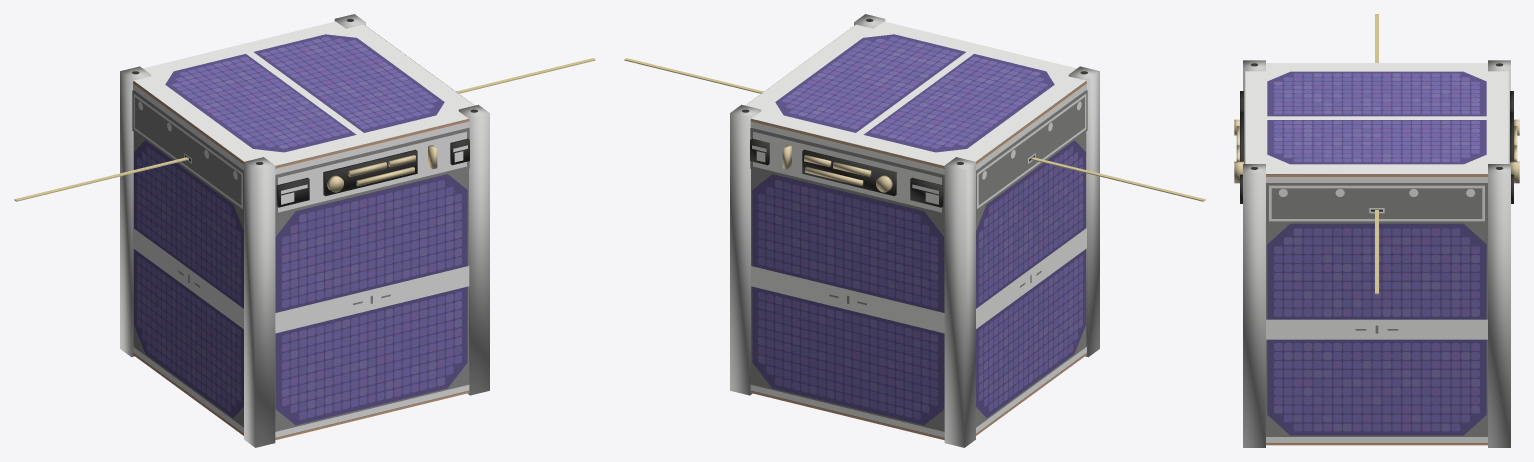
File: 1U_CubeSat.glb
3 renders of one model, left to right at view 1: azimuth 30°, elevation 25°; view 2: azimuth 150°, elevation 25°; view 3: azimuth 270°, elevation 25°, orthographic.
Visible parts, largest first — view 1: Face -Y, Face -X, Top end, Corner rail, Corner rail.002, Corner rail.001, Black connector block -Y 2, Tape antenna -X, Black connector block -Y 1; view 2: Face +Y, Face -X, Top end, Corner rail.001, Corner rail.003, Corner rail, Black connector block +Y 2, Tape antenna -X, Black connector block +Y 1; view 3: Face +X, Top end, Corner rail.002, Corner rail.003, Corner rail, Corner rail.001, Tape antenna +X.
Boxes of the visible parts, x1,y1,x2,y2 form: Face -Y: (275,119,469,440); Face -X: (132,81,243,435); Top end: (134,21,474,165); Corner rail: (244,157,275,447); Corner rail.002: (458,104,489,395); Corner rail.001: (120,66,151,357); Black connector block -Y 2: (323,149,417,196); Tape antenna -X: (14,157,188,201); Black connector block -Y 1: (276,177,309,207); Face +Y: (750,119,944,440); Face -X: (976,81,1087,435); Top end: (745,21,1085,165); Corner rail.001: (944,157,975,447); Corner rail.003: (730,104,761,395); Corner rail: (1068,66,1099,357); Black connector block +Y 2: (802,149,896,196); Tape antenna -X: (1031,157,1205,201); Black connector block +Y 1: (910,177,943,207); Face +X: (1266,174,1487,445); Top end: (1245,63,1508,173); Corner rail.002: (1243,164,1265,447); Corner rail.003: (1488,164,1510,447); Corner rail: (1243,60,1265,163); Corner rail.001: (1488,60,1510,163); Tape antenna +X: (1375,210,1378,294).
Bounding box in the file's own units: 0.2468 × 0.1133 × 0.1066.
